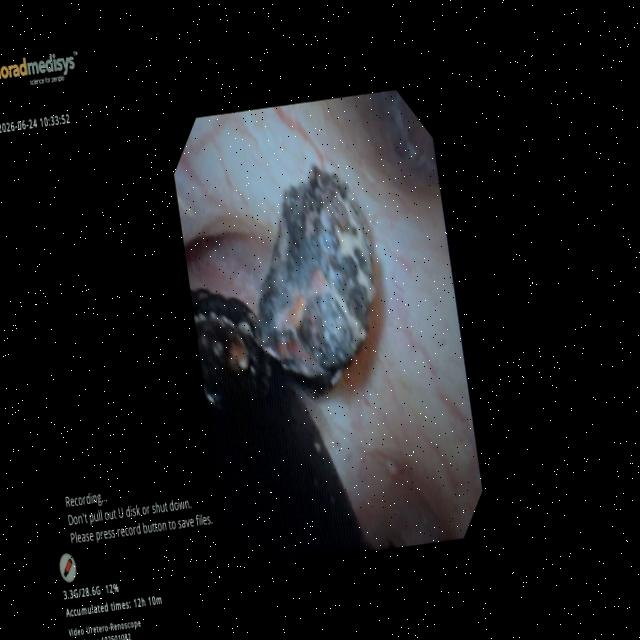stone-new: (191, 289, 373, 567), (256, 165, 375, 383)
